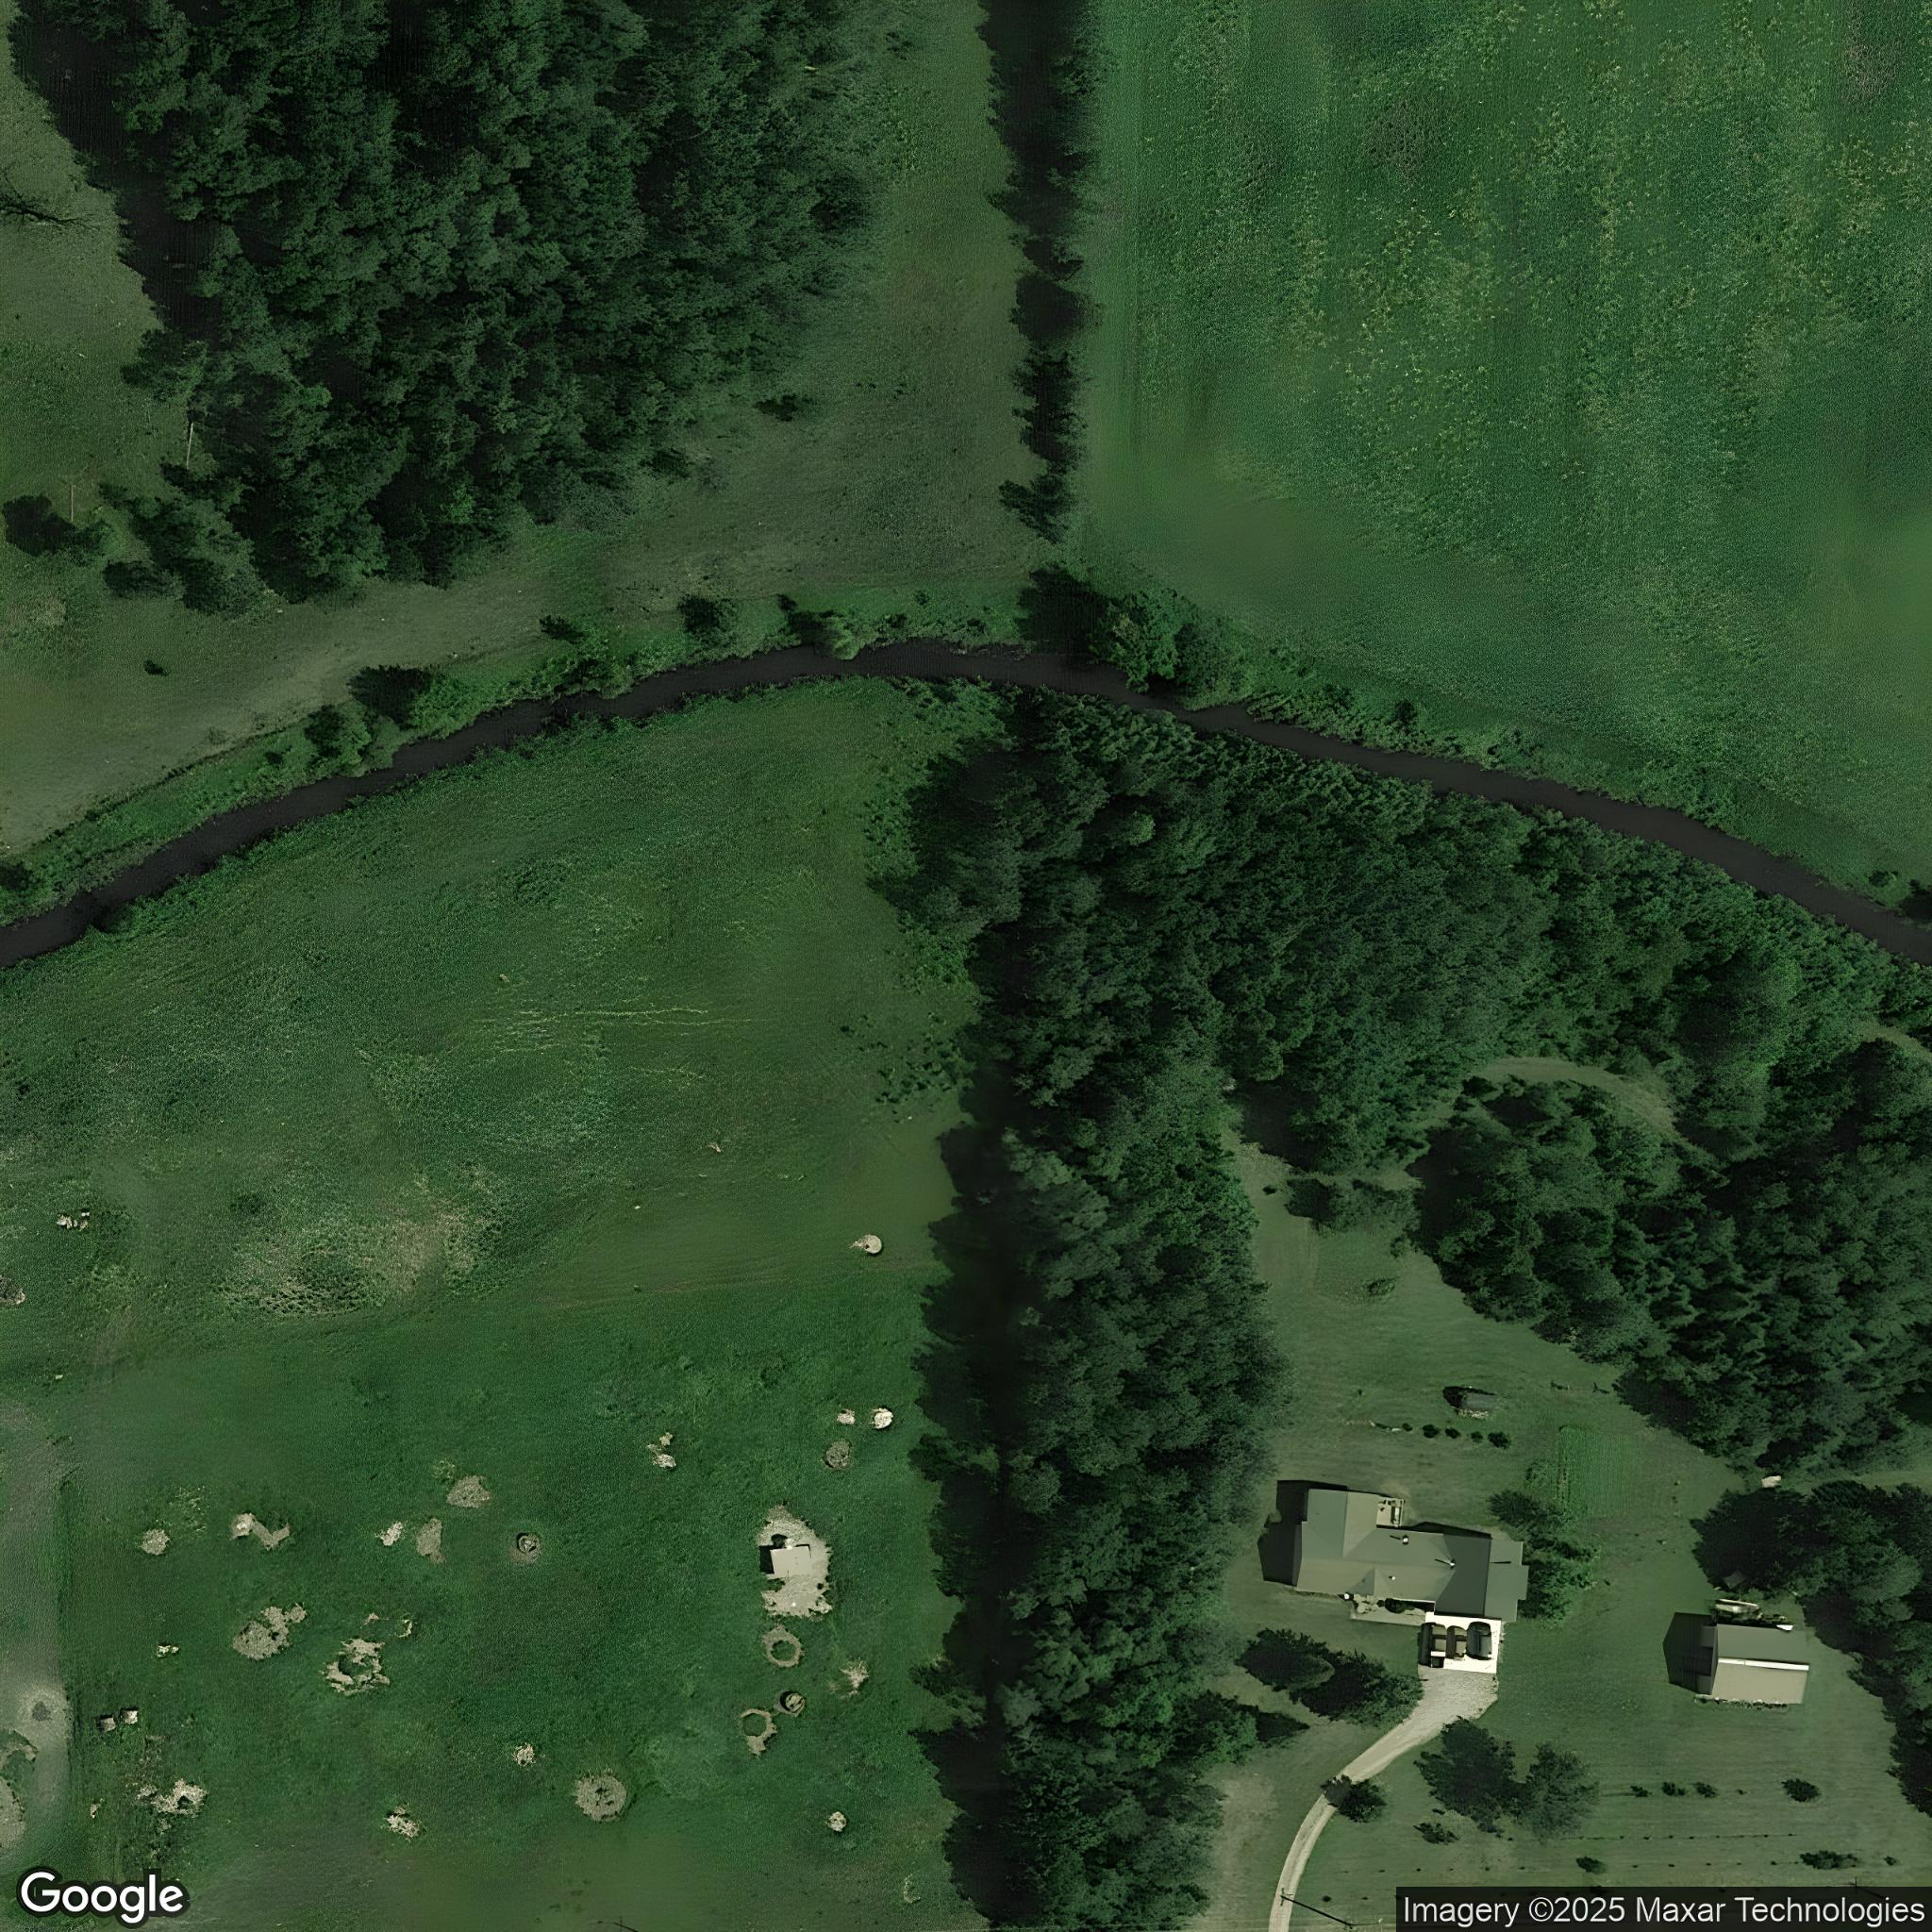Garage: (1697, 1624, 1808, 1704)
House: (1293, 1490, 1529, 1624)
